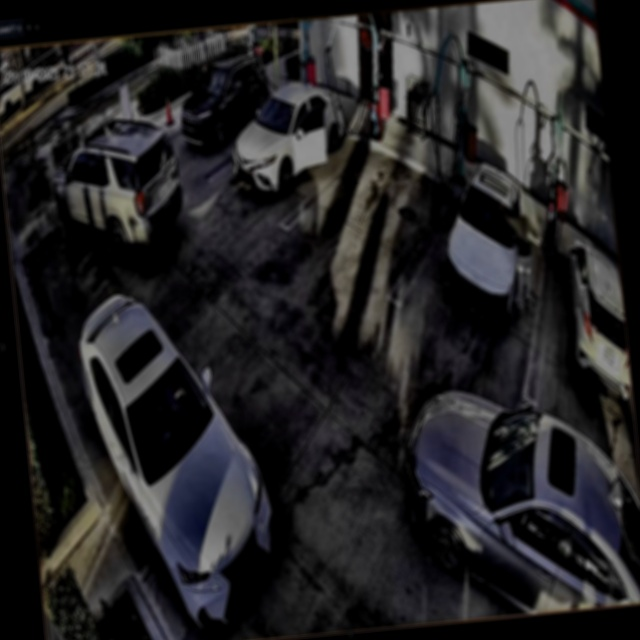Car: (75, 281, 285, 640), (402, 371, 640, 624), (48, 113, 190, 271), (437, 159, 534, 332), (228, 81, 350, 191)
